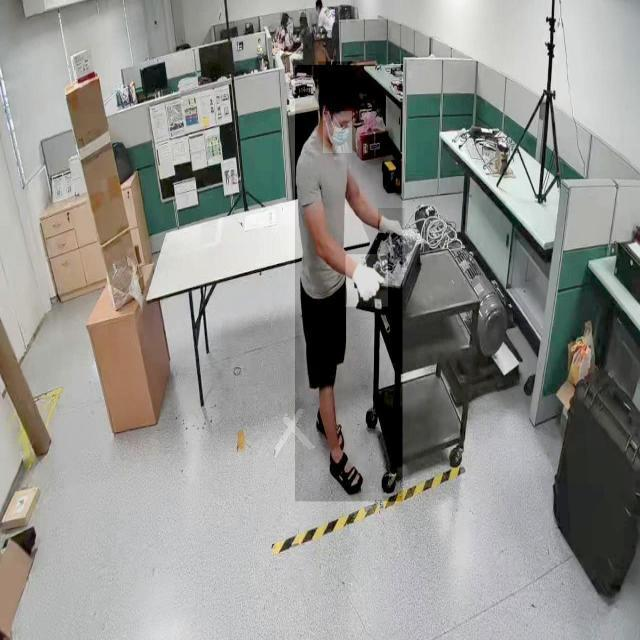gloves: (346, 254, 388, 307), (378, 208, 405, 242)
